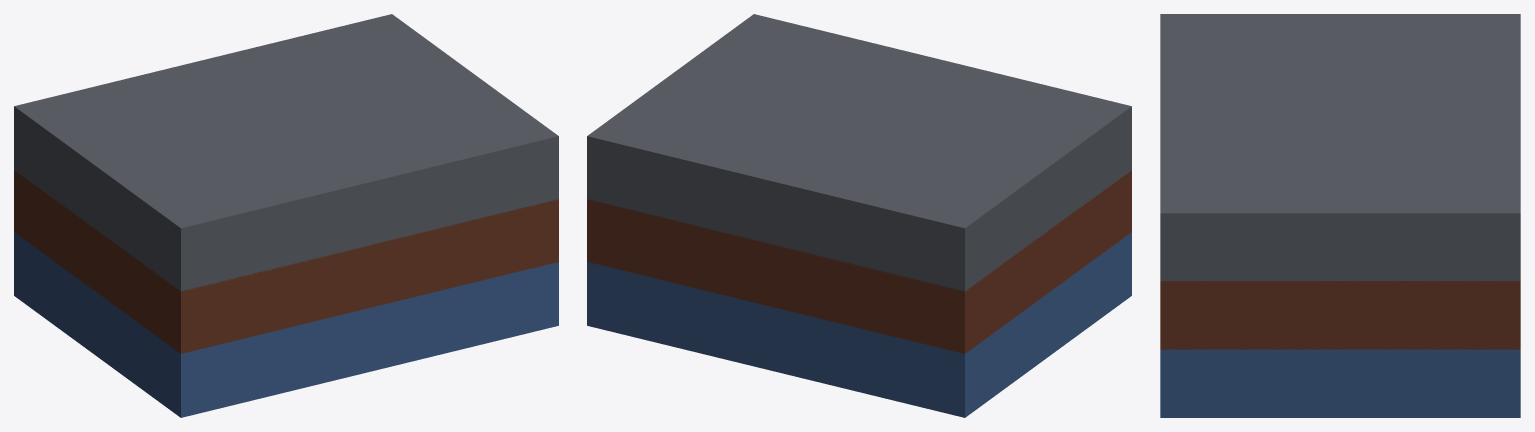
File: FD_Pants_Folded_01.glb
3 renders of one model, left to right at view 1: azimuth 30°, elevation 25°; view 2: azimuth 150°, elevation 25°; view 3: azimuth 270°, elevation 25°, orthographic. The views are drawn at different scales.
Parts seen in each view (by area): view 1: FD_Pants_Folded_01; view 2: FD_Pants_Folded_01; view 3: FD_Pants_Folded_01.
Boxes of the visible parts, <box> form: FD_Pants_Folded_01: <box>14,14,558,417</box>; FD_Pants_Folded_01: <box>587,14,1131,417</box>; FD_Pants_Folded_01: <box>1160,14,1520,417</box>.
Bounding box in the file's own units: 0.34 × 0.163 × 0.26.
Materials: 1 (1 with a texture image).
